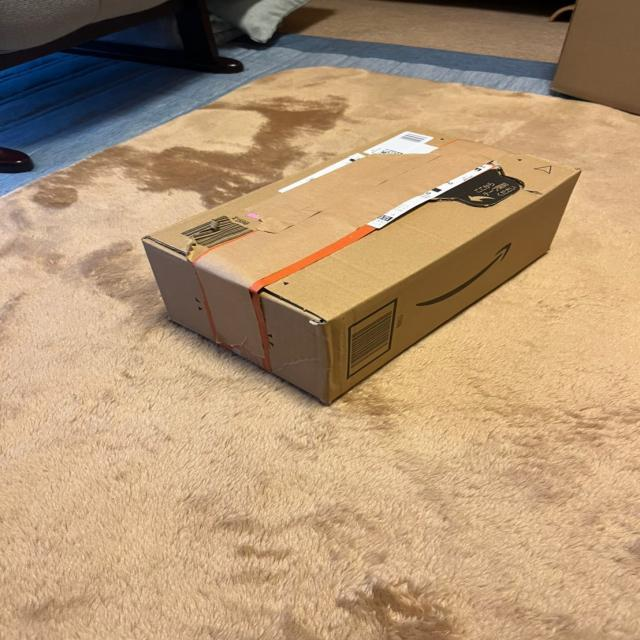-: (132, 125, 594, 411)
